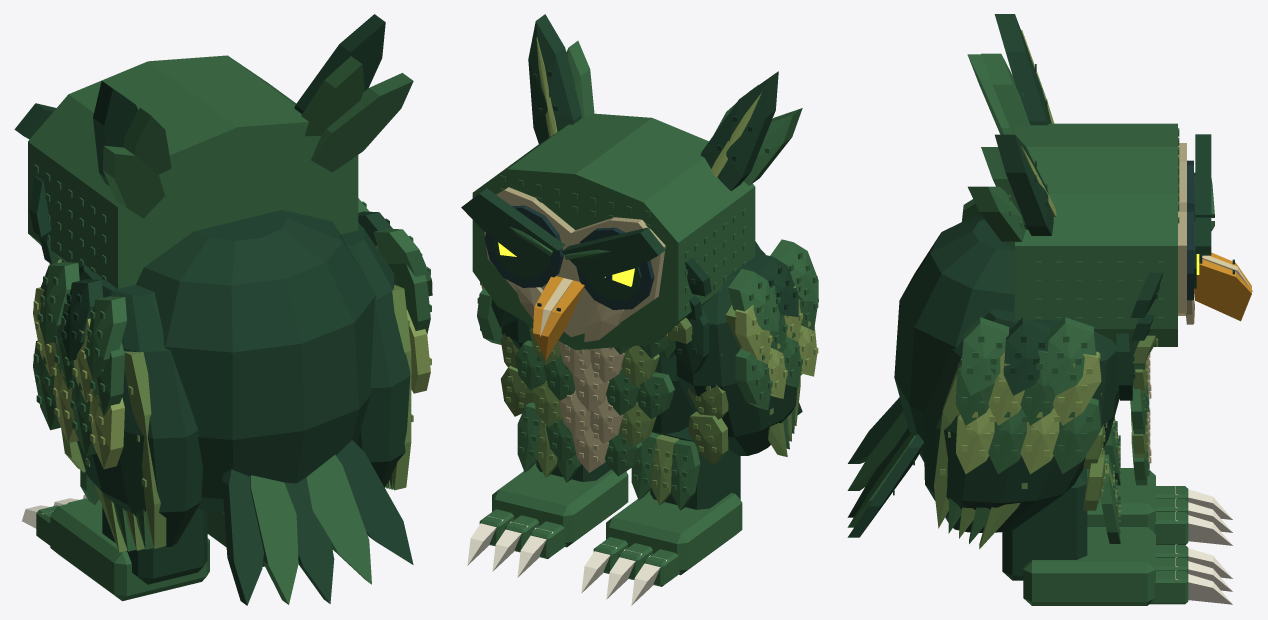
Rendered from Guardian_2.fbx.
The picture shows the model from 3 angles, left to right: view 1: azimuth 30°, elevation 25°; view 2: azimuth 150°, elevation 25°; view 3: azimuth 270°, elevation 25°; orthographic projection. The views are drawn at different scales.
Parts seen in each view (by area): view 1: Owl_Body_pine, Owl_Head_forest, Owl_WingL_Mass_pine, Owl_Tail_pine, Owl_Tail_forest, Owl_WingR_Mass_pine, Owl_EarTuftsR_forest, Owl_FootL_Pad_forest, Owl_EarTuftsL_forest, Owl_WingL_Coverts_moss, Owl_WingL_Coverts_forest, Owl_WingL_Shoulder_forest (+16 smaller); view 2: Owl_Head_forest, Owl_WingL_Mass_pine, Owl_ChestPlumage_forest, Owl_Brow_pine, Owl_FootL_Pad_forest, Owl_FootR_Pad_forest, Owl_ChestPlumage_sage, Owl_EarTuftsR_pine, Owl_EarTuftsL_pine, Owl_FaceDisk_sage, Owl_FlankPlumage_leaf, Owl_WingL_Shoulder_forest (+31 smaller); view 3: Owl_Head_forest, Owl_Body_pine, Owl_WingR_Mass_pine, Owl_FootR_Pad_forest, Owl_WingR_Coverts_forest, Owl_WingR_Coverts_moss, Owl_WingR_Shoulder_forest, Owl_FootR_Leg_pine, Owl_Tail_pine, Owl_EarTuftsR_pine, Owl_EarTuftsR_forest, Owl_EarTuftsL_forest (+22 smaller).
Part boxes in pixels (left/top/right/bottom): Owl_Body_pine: left=136, top=210, right=376, bottom=512; Owl_Head_forest: left=28, top=55, right=358, bottom=288; Owl_WingL_Mass_pine: left=77, top=264, right=202, bottom=546; Owl_Tail_pine: left=222, top=439, right=413, bottom=605; Owl_Tail_forest: left=250, top=455, right=371, bottom=604; Owl_WingR_Mass_pine: left=341, top=223, right=410, bottom=487; Owl_EarTuftsR_forest: left=301, top=56, right=413, bottom=172; Owl_FootL_Pad_forest: left=50, top=499, right=209, bottom=601; Owl_EarTuftsL_forest: left=103, top=107, right=171, bottom=218; Owl_WingL_Coverts_moss: left=33, top=287, right=124, bottom=469; Owl_WingL_Coverts_forest: left=33, top=303, right=124, bottom=456; Owl_WingL_Shoulder_forest: left=37, top=262, right=126, bottom=378; Owl_Head_forest: left=472, top=113, right=755, bottom=350; Owl_WingL_Mass_pine: left=676, top=246, right=797, bottom=455; Owl_ChestPlumage_forest: left=515, top=321, right=674, bottom=476; Owl_Brow_pine: left=461, top=188, right=665, bottom=280; Owl_FootL_Pad_forest: left=606, top=490, right=742, bottom=575; Owl_FootR_Pad_forest: left=492, top=462, right=628, bottom=547; Owl_ChestPlumage_sage: left=558, top=341, right=624, bottom=472; Owl_EarTuftsR_pine: left=528, top=14, right=581, bottom=144; Owl_EarTuftsL_pine: left=700, top=71, right=778, bottom=190; Owl_FaceDisk_sage: left=484, top=187, right=665, bottom=337; Owl_FlankPlumage_leaf: left=500, top=333, right=728, bottom=464; Owl_WingL_Shoulder_forest: left=728, top=239, right=818, bottom=331; Owl_Head_forest: left=1015, top=123, right=1177, bottom=346; Owl_Body_pine: left=894, top=215, right=1119, bottom=462; Owl_WingR_Mass_pine: left=923, top=309, right=1117, bottom=532; Owl_FootR_Pad_forest: left=1023, top=527, right=1155, bottom=605; Owl_WingR_Coverts_forest: left=956, top=350, right=1101, bottom=474; Owl_WingR_Coverts_moss: left=956, top=350, right=1101, bottom=474; Owl_WingR_Shoulder_forest: left=961, top=317, right=1096, bottom=395; Owl_FootR_Leg_pine: left=1002, top=469, right=1087, bottom=580; Owl_Tail_pine: left=847, top=397, right=923, bottom=537; Owl_EarTuftsR_pine: left=995, top=134, right=1053, bottom=235; Owl_EarTuftsR_forest: left=968, top=147, right=1027, bottom=250; Owl_EarTuftsL_forest: left=967, top=53, right=1030, bottom=134.
Bounding box in the file's own units: 2095 × 3170 × 2390.
